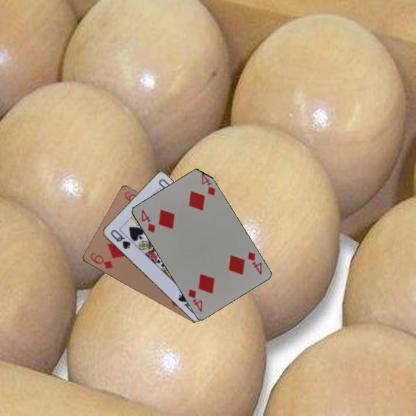4d: (138, 207, 157, 233), (245, 249, 263, 276)
6d: (87, 250, 114, 271)
Qs: (108, 227, 132, 250)
